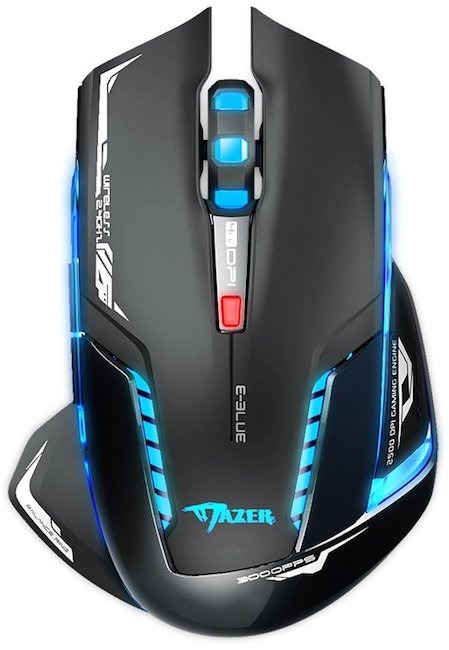mouse: (12, 19, 434, 635)
